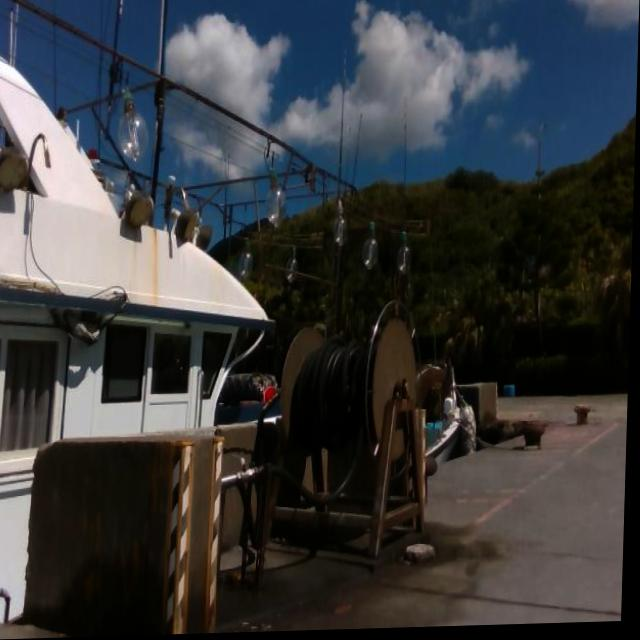pollute: (504, 385, 519, 403)
